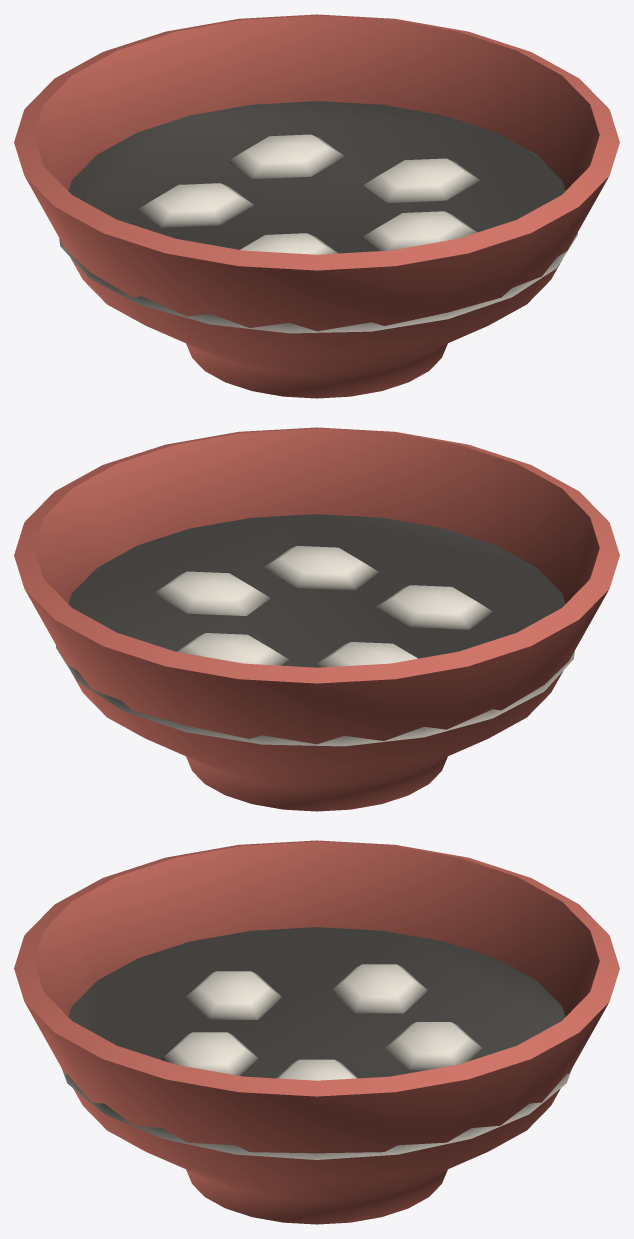
File: dish_spoiled.glb
3 renders of one model, top to bottom at view 1: azimuth 30°, elevation 25°; view 2: azimuth 150°, elevation 25°; view 3: azimuth 270°, elevation 25°, orthographic.
Parts seen in each view (by area): view 1: PART; view 2: PART; view 3: PART.
Part boxes in pixels (box(x1,y1,x2,y2)): PART: box(14, 14, 619, 398); PART: box(14, 427, 619, 811); PART: box(14, 840, 619, 1224).
Bounding box in the file's own units: 0.15 × 0.057 × 0.15.
